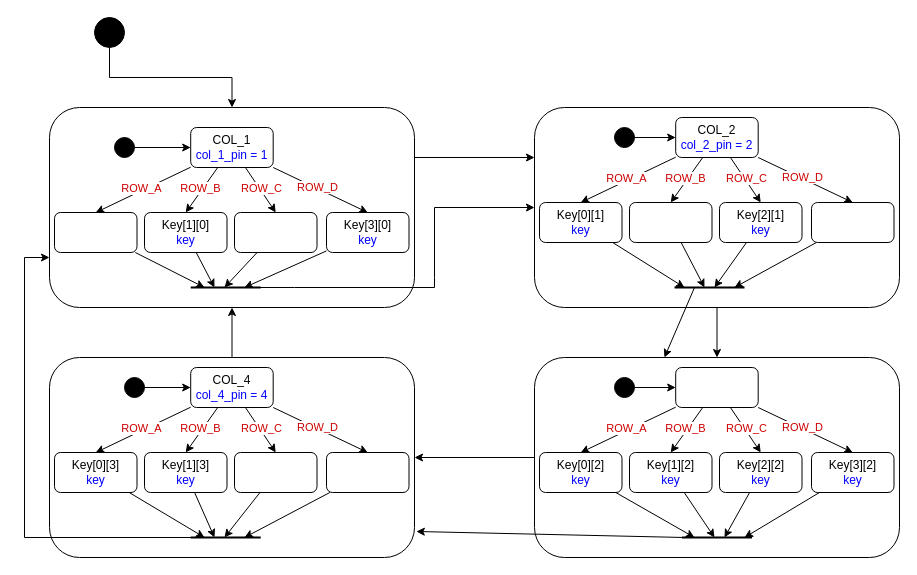
Some shapes in this 917 by 575 pixel diagram are drawn without their labels. The centre of each missing label's shape, as x and y in pixels:
"COL_3 col_3_pin = 3" belongs at (716,387).
"Key[0][0] key" belongs at (95,232).
"Key[1][1] key" belongs at (670,222).
"Key[2][0] key" belongs at (275,232).
"Key[2][3] key" belongs at (275,472).
"Key[3][1] key" belongs at (852,222).
"Key[3][3] key" belongs at (367,472).
